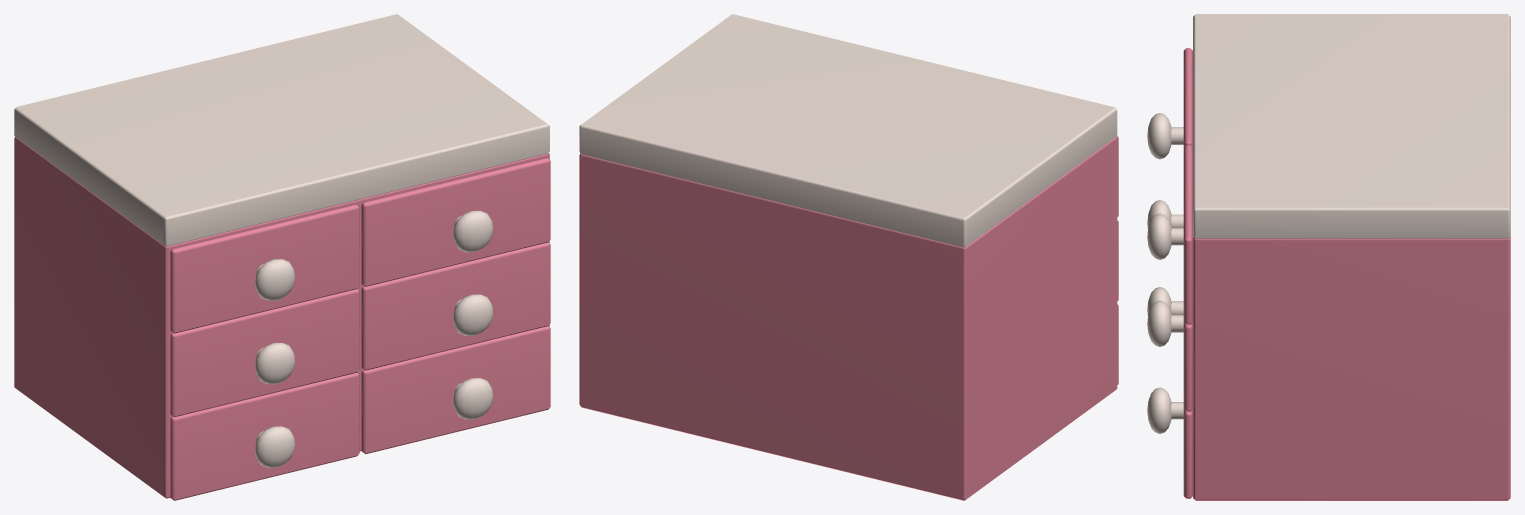
The model's file is Drawer_pink_1.glb.
3 renders of one model, left to right at view 1: azimuth 30°, elevation 25°; view 2: azimuth 150°, elevation 25°; view 3: azimuth 270°, elevation 25°, orthographic. The views are drawn at different scales.
Visible parts, largest first — view 1: Kitchen_Cabinet_3; view 2: Kitchen_Cabinet_3; view 3: Kitchen_Cabinet_3.
Boxes of the visible parts, bbox=[...] form: Kitchen_Cabinet_3: bbox=[14, 14, 550, 500]; Kitchen_Cabinet_3: bbox=[579, 14, 1118, 500]; Kitchen_Cabinet_3: bbox=[1147, 14, 1510, 500].
Size of the model in its own units: 1.34 by 0.9394 by 1.05.
1 material, 1 textured.
